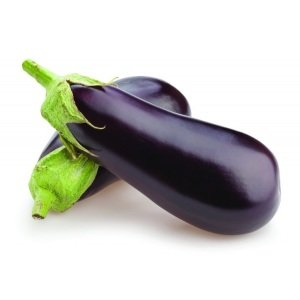Eggplant: (14, 59, 284, 241)
